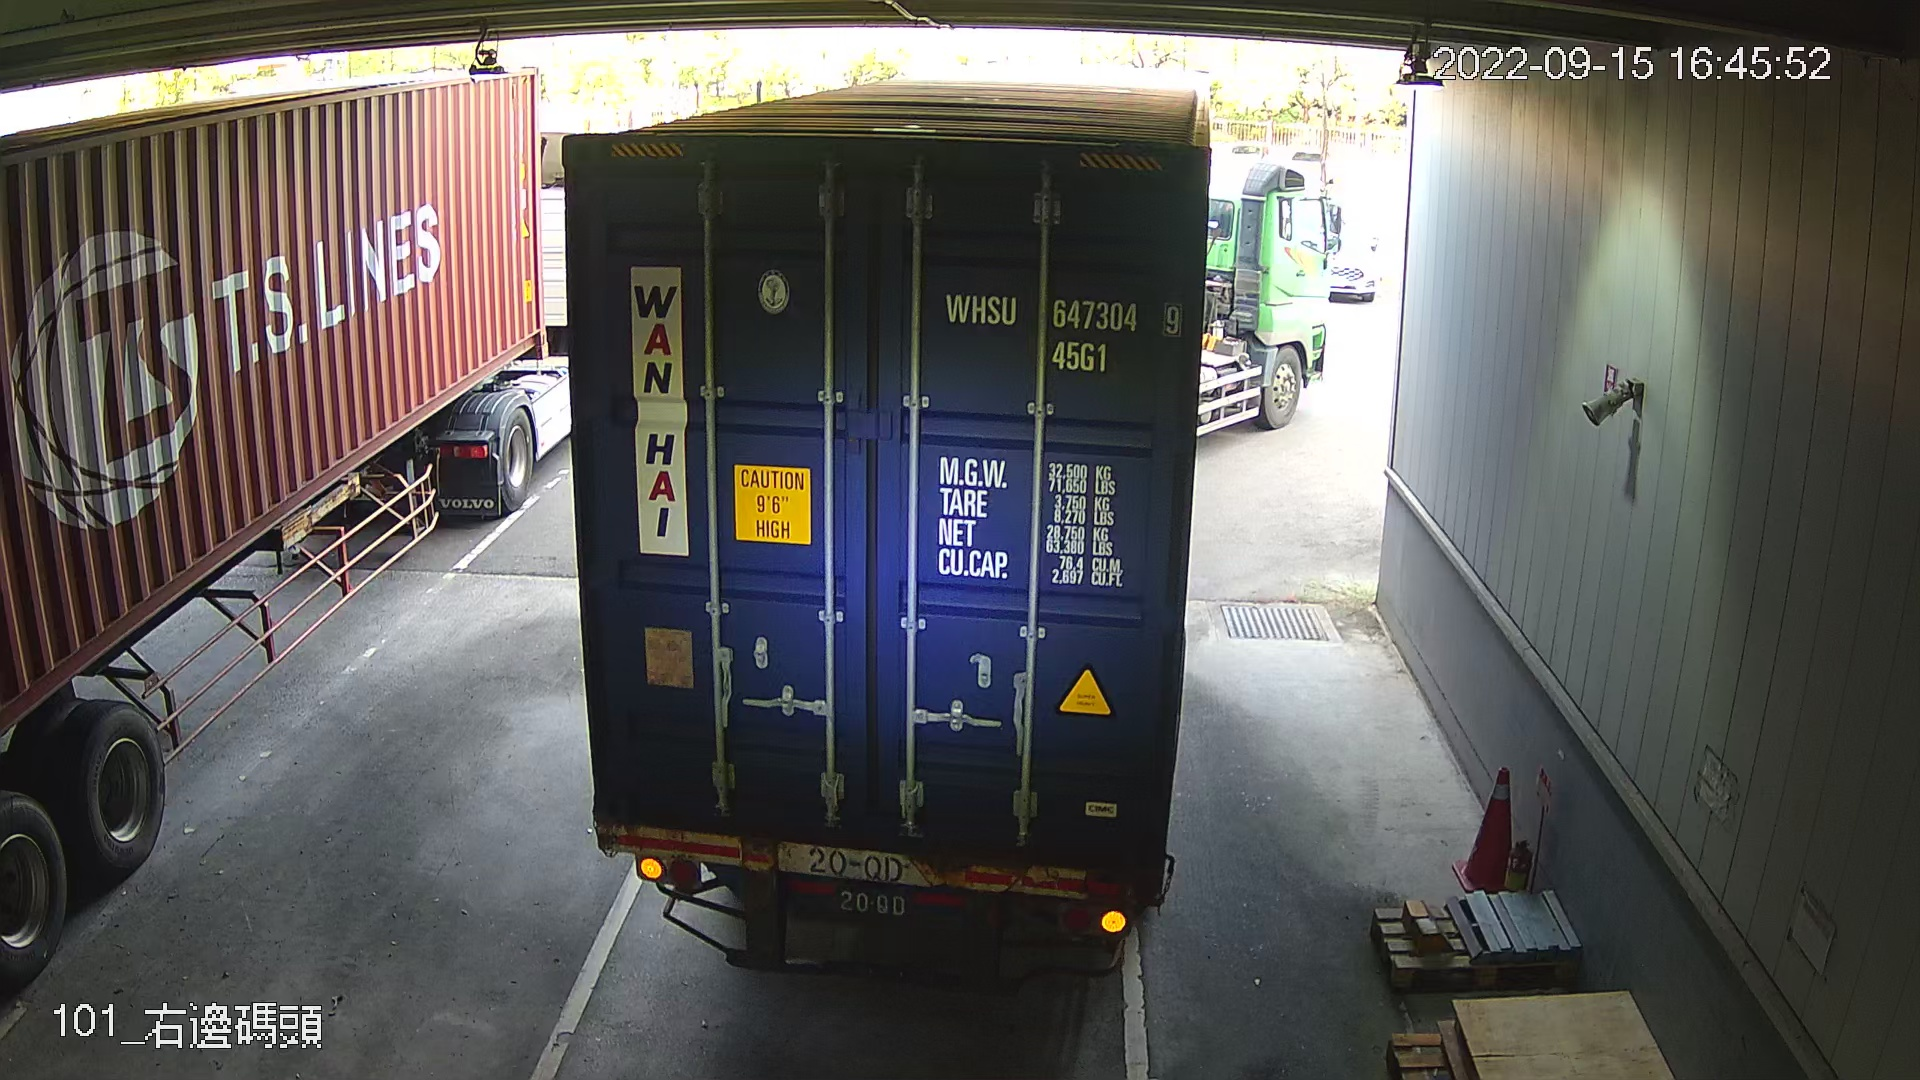container: (938, 280, 1188, 382)
